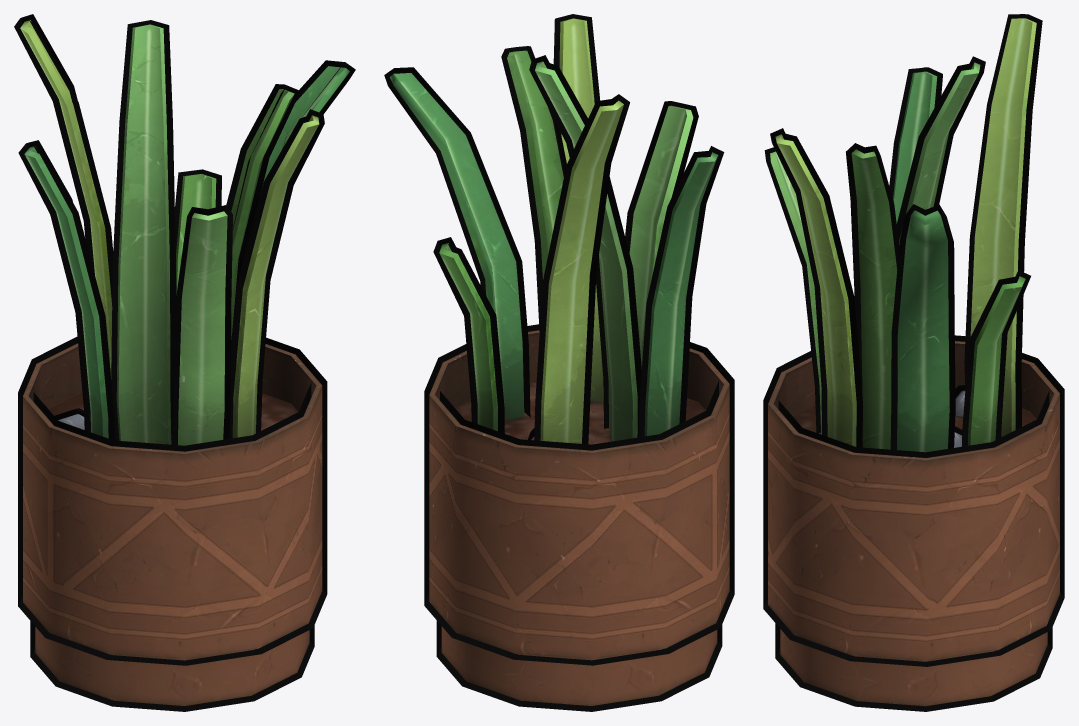
The model's file is Plant 3.fbx.
3 views of the same model, side by side, from view 1: azimuth 30°, elevation 25°; view 2: azimuth 150°, elevation 25°; view 3: azimuth 270°, elevation 25° (orthographic). The views are drawn at different scales.
Parts seen in each view (by area): view 1: Plant 3; view 2: Plant 3; view 3: Plant 3.
Part boxes in pixels (x1,y1,x2,y2): Plant 3: (14,14,355,711); Plant 3: (384,14,734,711); Plant 3: (763,14,1064,711).
Size of the model in its own units: 29.72 by 51.87 by 23.73.
